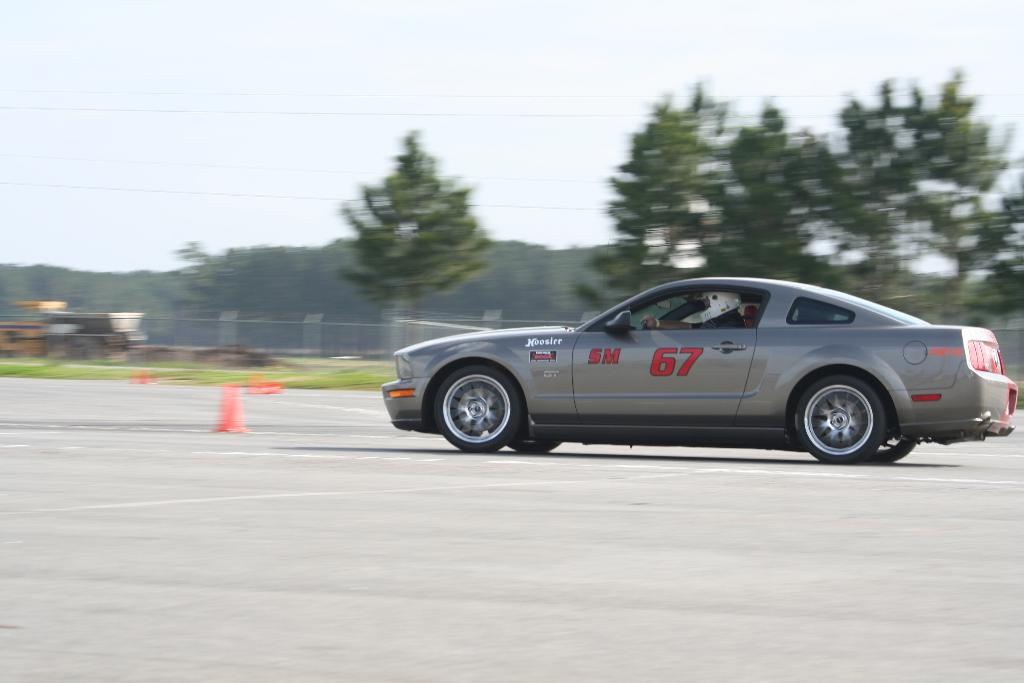mobil: (387, 269, 1018, 476)
